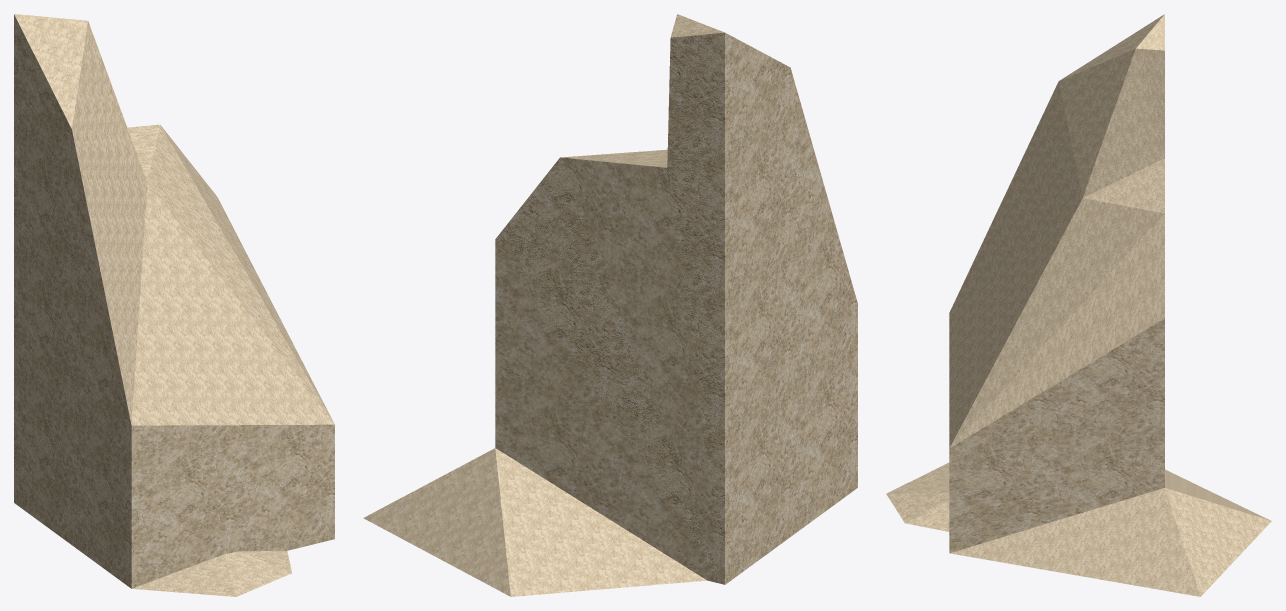
File: thm_tato_imprv_pillar_ruin_sml_s01_l2.fbx
3 renders of one model, left to right at view 1: azimuth 30°, elevation 25°; view 2: azimuth 150°, elevation 25°; view 3: azimuth 270°, elevation 25°, orthographic. The views are drawn at different scales.
Parts seen in each view (by area): view 1: mesh_node; view 2: mesh_node; view 3: mesh_node.
Boxes of the visible parts, x1,y1,x2,y2 form: mesh_node: (14,14,334,596); mesh_node: (363,14,857,596); mesh_node: (886,14,1271,596).
Size of the model in its own units: 1.48 by 2.3 by 1.79.
